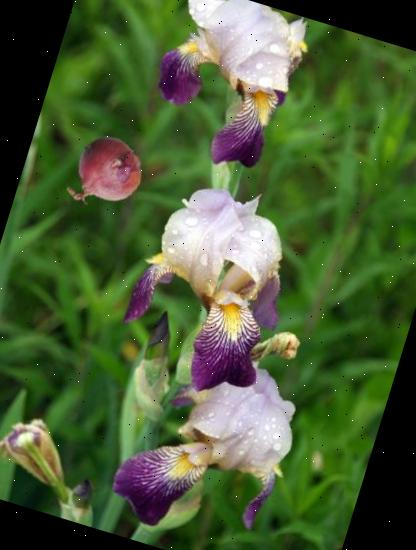Onion: (54, 122, 156, 224)
